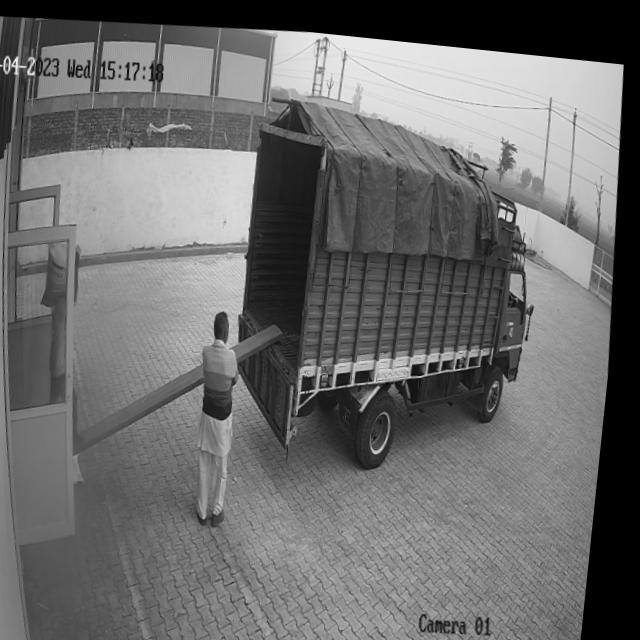sack: (44, 237, 90, 308)
